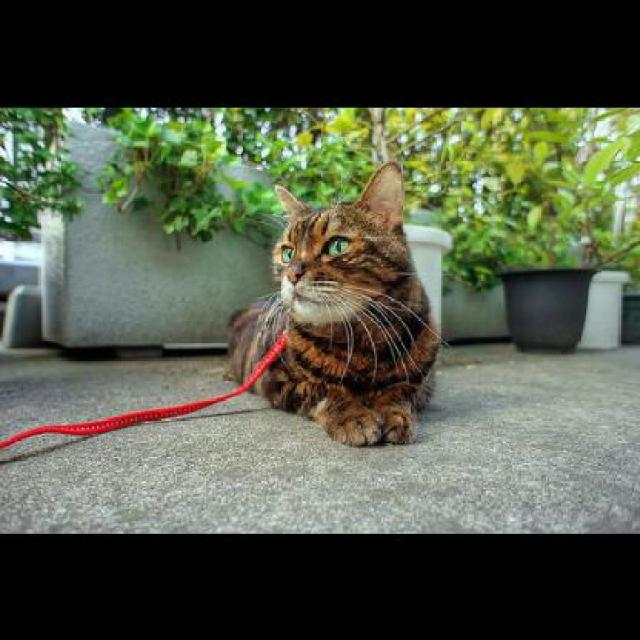unauthorized: (222, 158, 443, 448)
